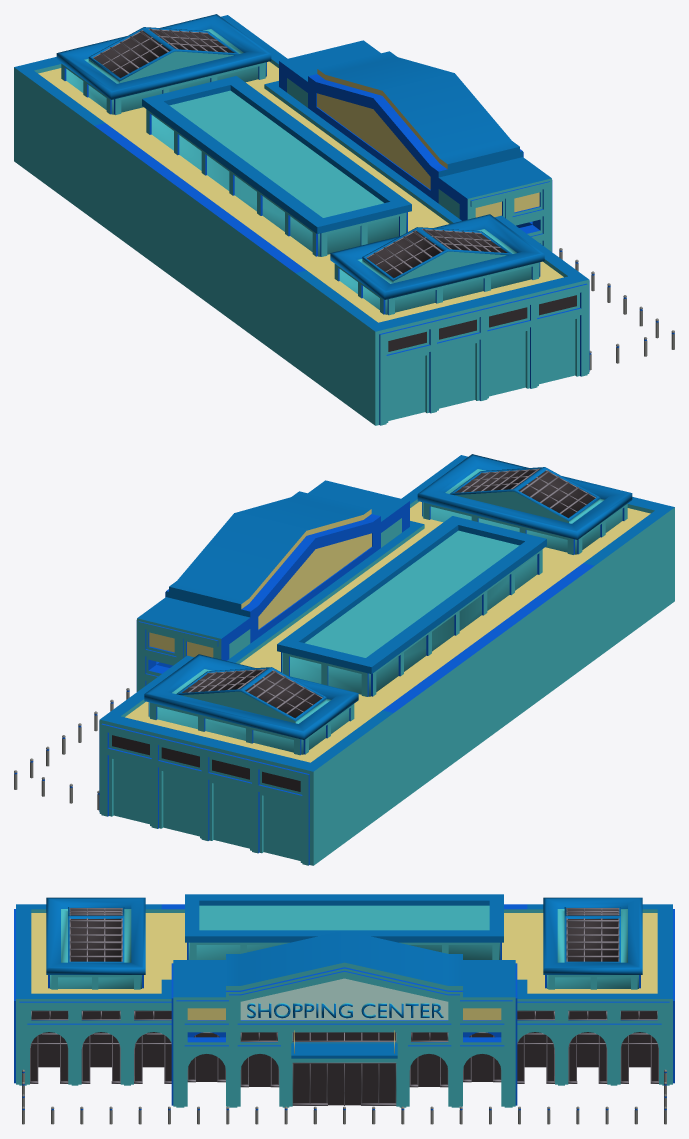
The model's file is CentroComercial.fbx.
3 views of the same model, one above another, from view 1: azimuth 30°, elevation 25°; view 2: azimuth 150°, elevation 25°; view 3: azimuth 270°, elevation 25° (orthographic). The views are drawn at different scales.
Parts seen in each view (by area): view 1: ShoppingCenterBuilding_ShoppingCenterBuilding_Cube.079_Cube.; view 2: ShoppingCenterBuilding_ShoppingCenterBuilding_Cube.079_Cube.; view 3: ShoppingCenterBuilding_ShoppingCenterBuilding_Cube.079_Cube..
Part boxes in pixels (x1=…): ShoppingCenterBuilding_ShoppingCenterBuilding_Cube.079_Cube.: x1=14, y1=14, x2=674, y2=425; ShoppingCenterBuilding_ShoppingCenterBuilding_Cube.079_Cube.: x1=14, y1=454, x2=674, y2=865; ShoppingCenterBuilding_ShoppingCenterBuilding_Cube.079_Cube.: x1=14, y1=894, x2=674, y2=1124.
Size of the model in its own units: 872 by 431 by 1811.
1 material, 1 textured.
